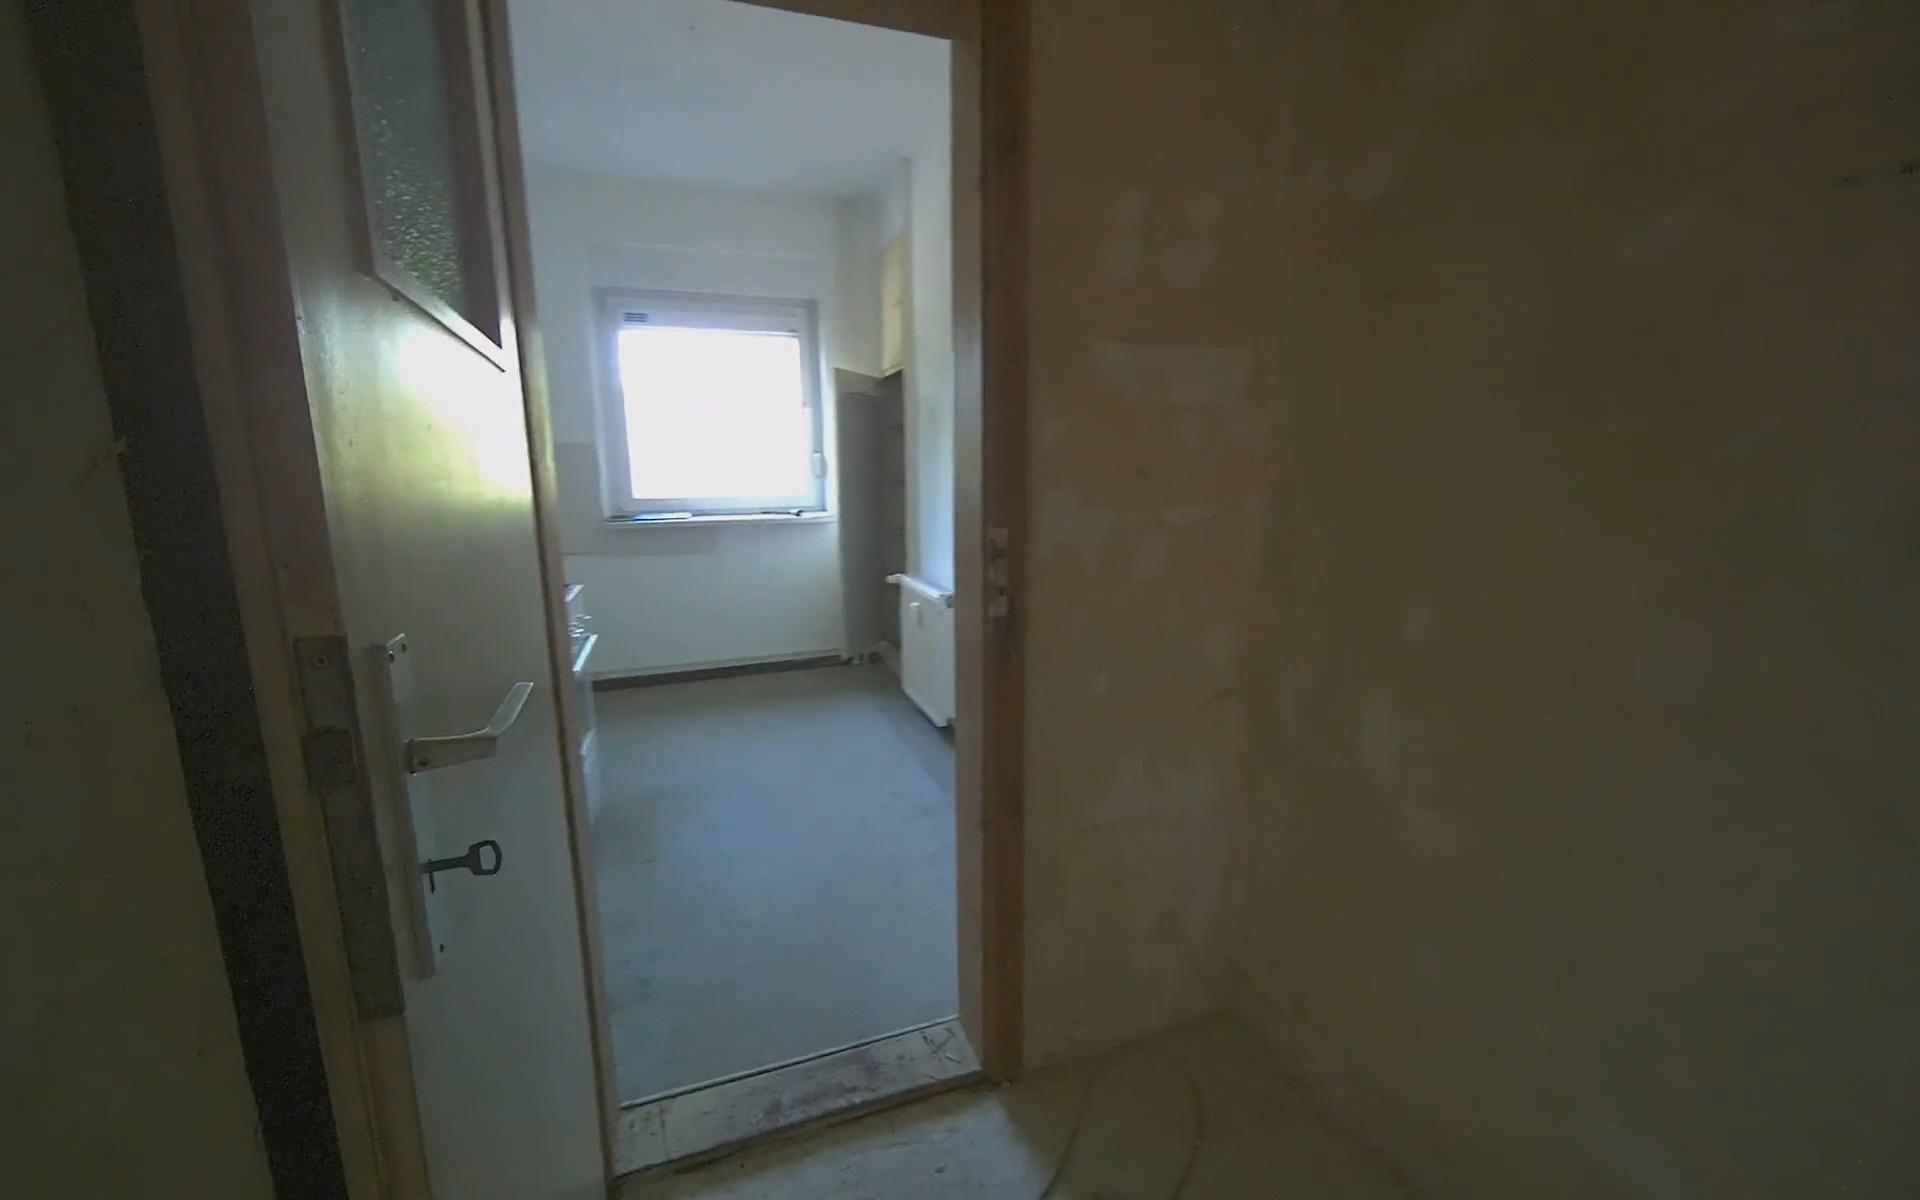doors: (17, 0, 1042, 1200), (827, 358, 923, 672)
radiator: (892, 574, 966, 735)
window: (605, 301, 818, 512)
